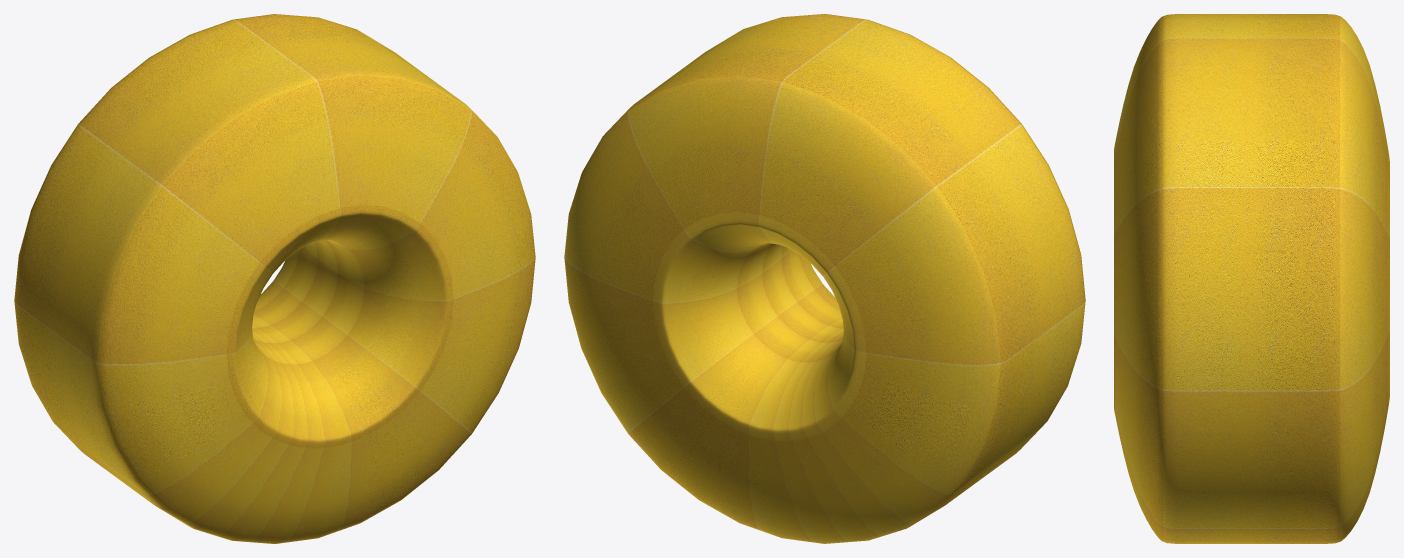
The model's file is yellow.obj.
The picture shows the model from 3 angles, left to right: view 1: azimuth 30°, elevation 25°; view 2: azimuth 150°, elevation 25°; view 3: azimuth 270°, elevation 25°; orthographic projection. The views are drawn at different scales.
Parts seen in each view (by area): view 1: group31_group30_nurbsToPoly13; view 2: group31_group30_nurbsToPoly13; view 3: group31_group30_nurbsToPoly13.
Boxes of the visible parts, <box> form: group31_group30_nurbsToPoly13: <box>14,14,535,543</box>; group31_group30_nurbsToPoly13: <box>564,14,1085,543</box>; group31_group30_nurbsToPoly13: <box>1114,14,1389,543</box>.
Size of the model in its own units: 0.6149 by 0.615 by 0.3192.
